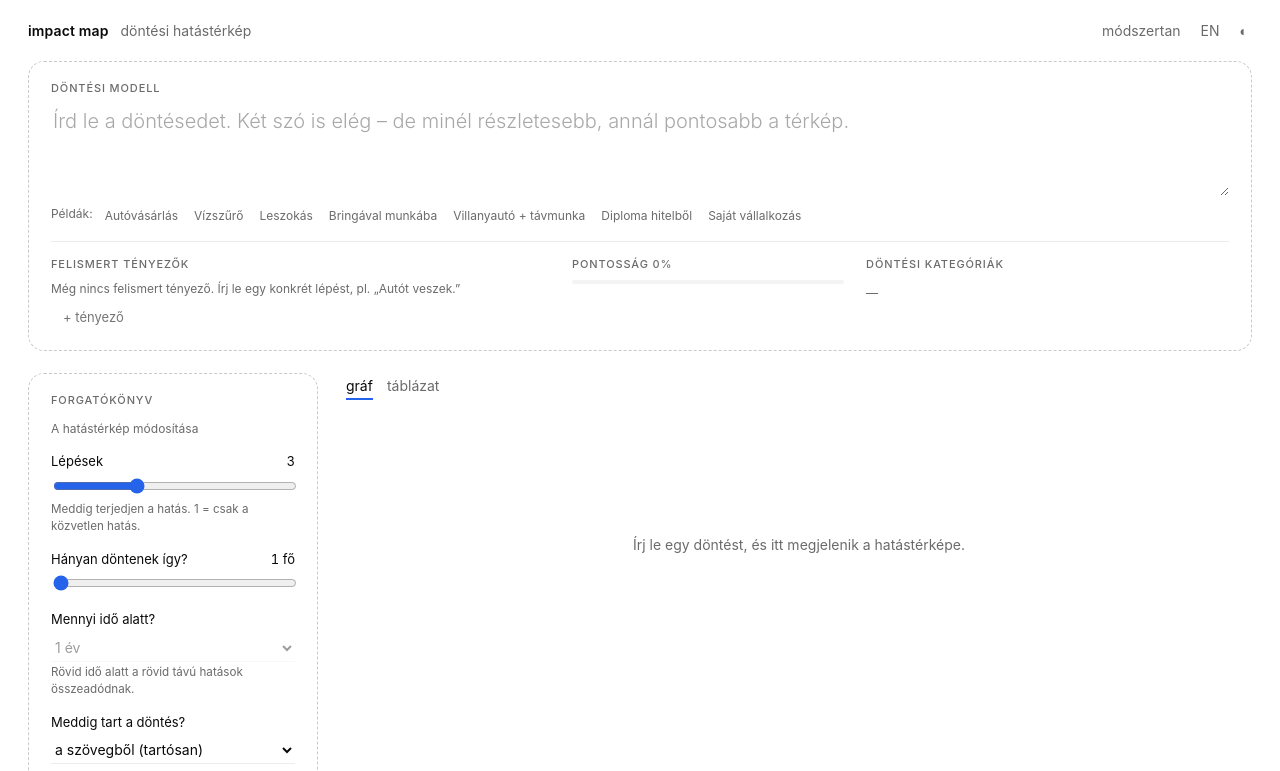
Scenario: App › lets the user remove a factor and change its intensity
Replace the text in the text box named "Döntési modell" with "Hetente háromszor edzek az edzőteremben, mert túlsúlyos lettem egy sérülés miatt." at (640, 150), box [51, 104, 1229, 196]
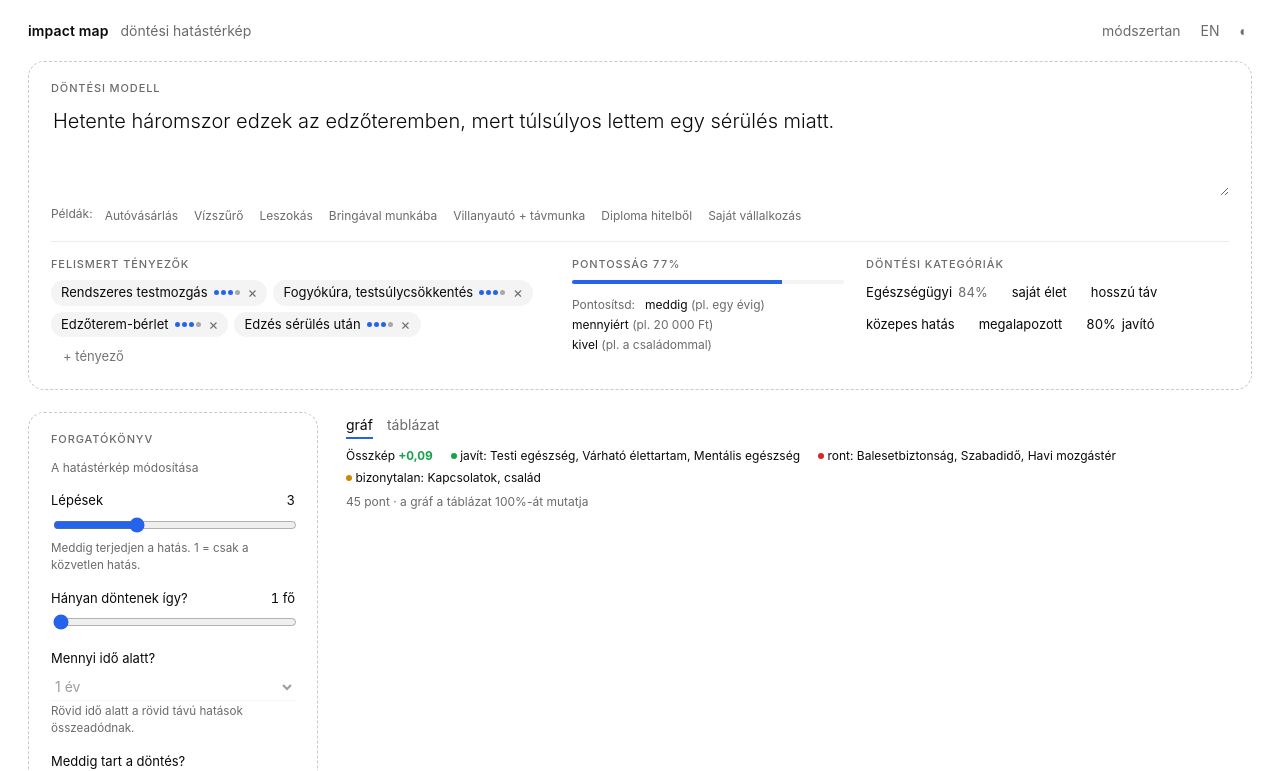
Now the text "Rendszeres testmozgás" is shown, box [61, 283, 208, 302]
Click the button named "Eltávolítás: Edzés sérülés után" at (405, 324), box [399, 317, 410, 332]
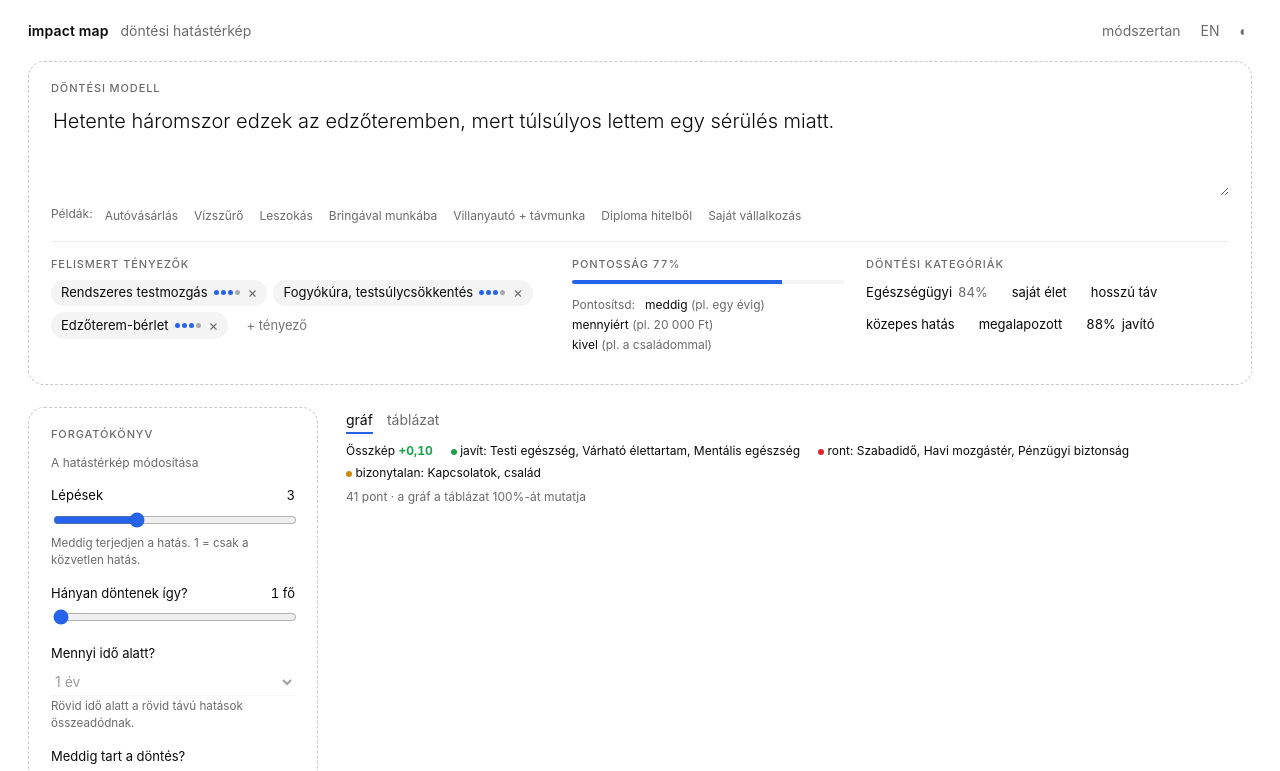
Now the text "Edzés sérülés után" is gone
Click the button named "Intenzitás – kattints a módosításhoz: Rendszeres testmozgás" at (226, 293), box [214, 290, 240, 295]
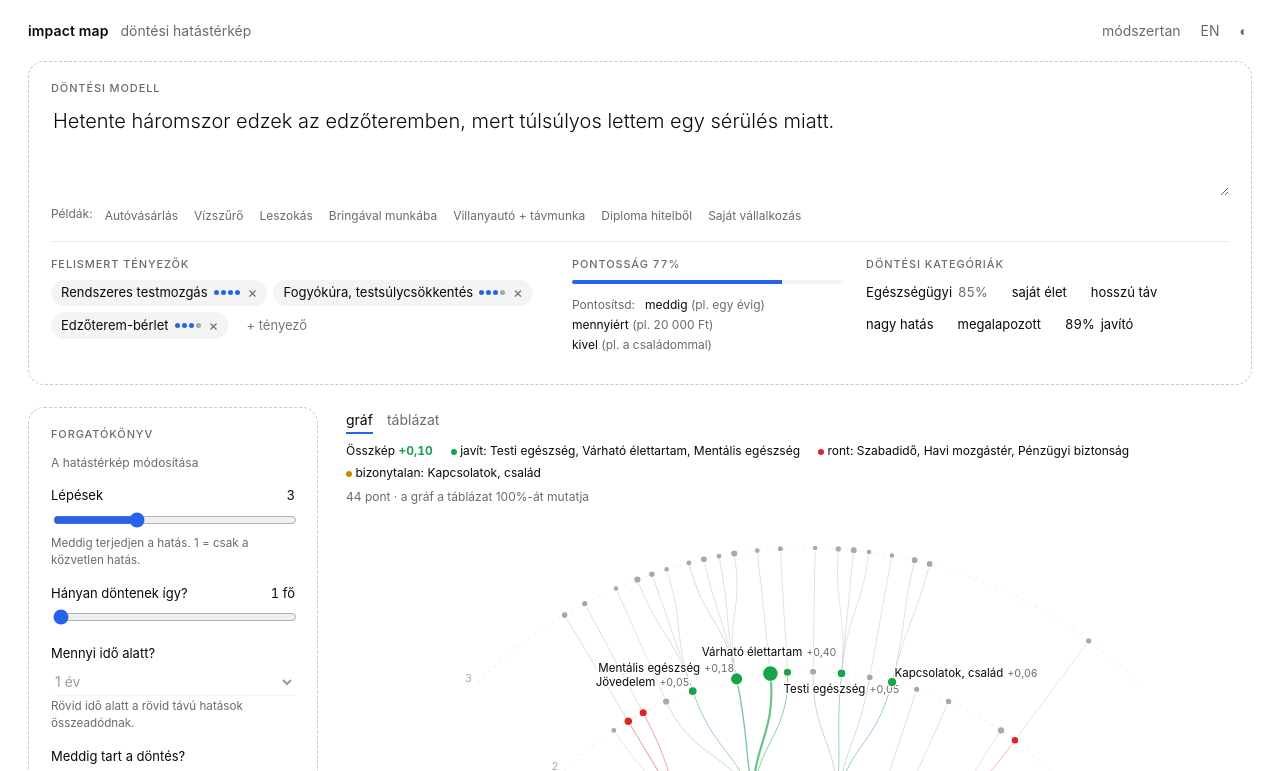
Now the button named "Intenzitás – kattints a módosításhoz: Rendszeres testmozgás" is shown, box [214, 290, 240, 295]
